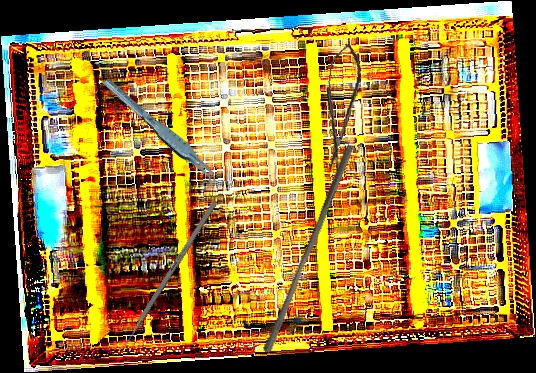Micro Scissor: (314, 41, 366, 174)
Pusher: (262, 140, 355, 357), (113, 201, 217, 363)
Tissue Forceps: (101, 65, 222, 199)
